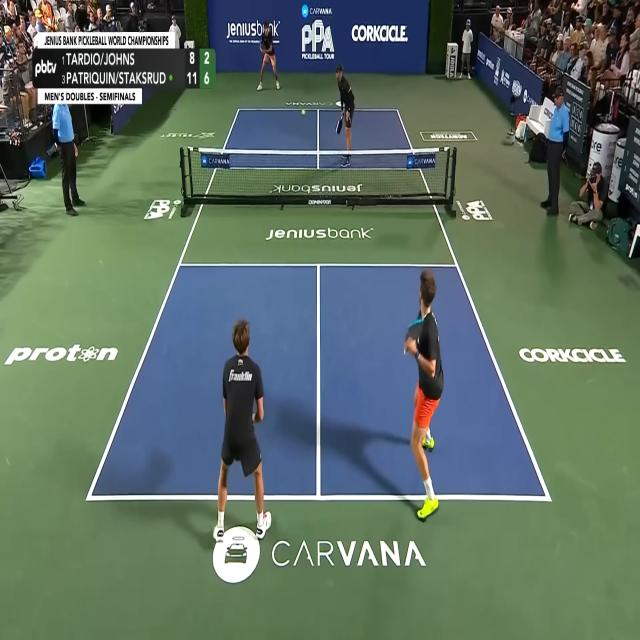ball: (301, 108, 306, 116)
